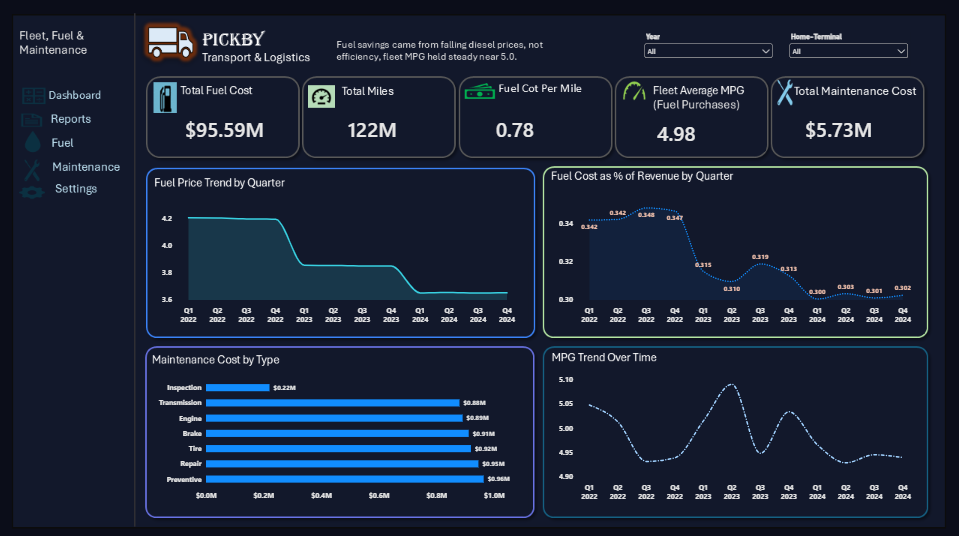

The dashboard page shown, as its layout file describes it:
{"tool":"powerbi","page":{"name":"Fleet, Fuel & Maintenance","canvas":[1920,1080],"ordinal":2},"visuals":[{"type":"cardVisual","fields":{"Data":["Measure.Total Fuel Cost"]},"box":[356.1,216.7,201.7,90.1],"z":0},{"type":"cardVisual","fields":{"Data":["Measure.Total Miles"]},"box":[682.2,212.4,214.5,96.5],"z":1000},{"type":"cardVisual","fields":{"Data":["Measure.Fuel Cost per Mile"]},"box":[978.2,212.4,223.1,96.5],"z":2000},{"type":"cardVisual","fields":{"Data":["Measure.Fleet Average MPG"]},"box":[1300,229.5,236,79.4],"z":3000},{"type":"cardVisual","fields":{"Data":["Measure.Maintenance Cost"]},"box":[1596.1,212.4,227.4,96.5],"z":4000},{"type":"lineChart","fields":{"Category":["Date.QuarterLabel"],"Y":["Measure.Avg Fuel Price"]},"box":[302.5,390.4,757.3,281],"z":5000},{"type":"lineChart","fields":{"Y":["Measure.Fuel Cost % of Revenue"],"Category":["Date.QuarterLabel"]},"box":[1104.8,390.4,746.5,281],"z":6000},{"type":"clusteredBarChart","fields":{"Y":["Measure.Maintenance Cost"],"Category":["maintenance_records.maintenance_type"]},"box":[302.5,738,757.3,287.5],"z":7000},{"type":"lineChart","fields":{"Y":["Measure.Fleet Average MPG"],"Category":["Date.QuarterLabel"]},"box":[1104.8,738,746.5,287.5],"z":8000},{"type":"slicer","fields":{"Values":["Date.YEAR"]},"box":[1285,68.6,266,66.5],"z":9000},{"type":"slicer","fields":{"Values":["trucks.home_terminal"]},"box":[1576.8,68.6,246.7,66.5],"z":10000},{"type":"textbox","box":[17,27.5,266,150],"z":11000}]}

Visuals, with their boxes on the page's 1920x1080 design canvas (x1, y1, x2, y2). These are canvas units, not pixel positions in the 959x536 screenshot, which may show the page scaled, cropped or inside an application window:
cardVisual - Measure.Total Fuel Cost: {"left": 356, "top": 217, "right": 558, "bottom": 307}
cardVisual - Measure.Total Miles: {"left": 682, "top": 212, "right": 897, "bottom": 309}
cardVisual - Measure.Fuel Cost per Mile: {"left": 978, "top": 212, "right": 1201, "bottom": 309}
cardVisual - Measure.Fleet Average MPG: {"left": 1300, "top": 230, "right": 1536, "bottom": 309}
cardVisual - Measure.Maintenance Cost: {"left": 1596, "top": 212, "right": 1824, "bottom": 309}
lineChart - Date.QuarterLabel x Measure.Avg Fuel Price: {"left": 302, "top": 390, "right": 1060, "bottom": 671}
lineChart - Measure.Fuel Cost % of Revenue x Date.QuarterLabel: {"left": 1105, "top": 390, "right": 1851, "bottom": 671}
clusteredBarChart - Measure.Maintenance Cost x maintenance_records.maintenance_type: {"left": 302, "top": 738, "right": 1060, "bottom": 1026}
lineChart - Measure.Fleet Average MPG x Date.QuarterLabel: {"left": 1105, "top": 738, "right": 1851, "bottom": 1026}
slicer - Date.YEAR: {"left": 1285, "top": 69, "right": 1551, "bottom": 135}
slicer - trucks.home_terminal: {"left": 1577, "top": 69, "right": 1824, "bottom": 135}
textbox: {"left": 17, "top": 28, "right": 283, "bottom": 178}
